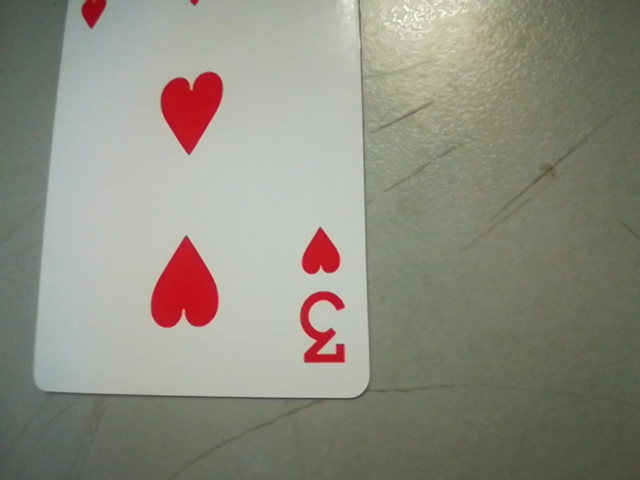hx 3: (285, 217, 360, 381)
